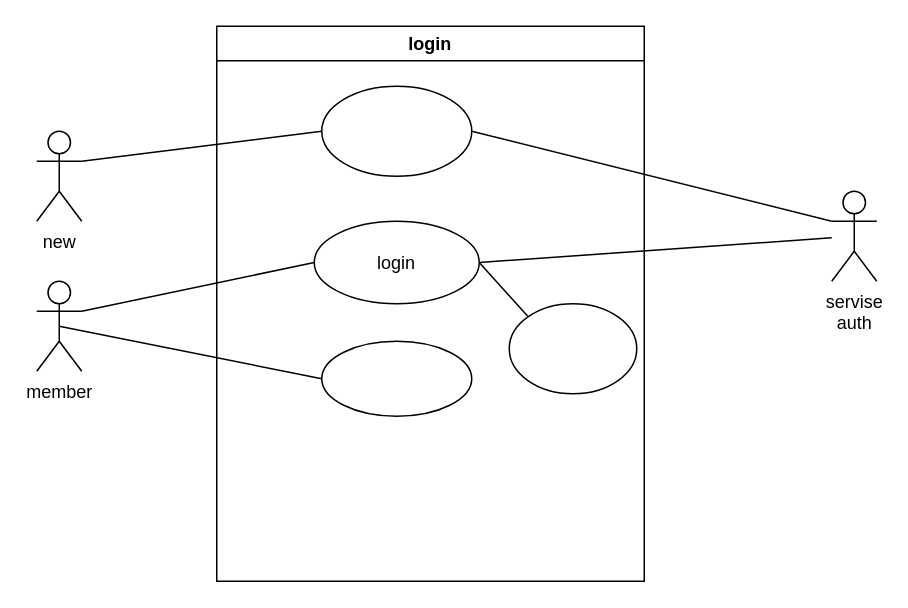
This 908x608 diagram has some shape labels left out. Here are the shapes that lost their labels. From the top down, the centre of each, then its label:
At (396,130): "register".
At (572,348): "forget pass".
At (396,378): "logout".
